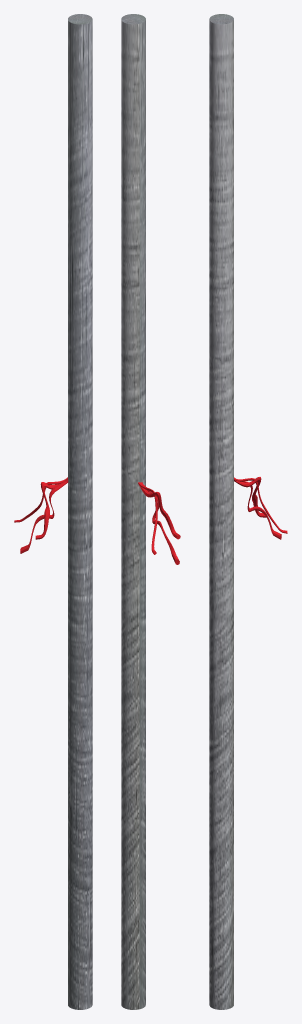
Rendered from poleWire.gltf.
The picture shows the model from 3 angles, left to right: view 1: azimuth 90°, elevation 25°; view 2: azimuth 210°, elevation 25°; view 3: azimuth 270°, elevation 25°; orthographic projection.
Parts seen in each view (by area): view 1: Cylinder, Cylinder.002, Cylinder.001; view 2: Cylinder, Cylinder.002, Cylinder.001, Cylinder.004; view 3: Cylinder, Cylinder.002, Cylinder.001, Cylinder.004.
Part boxes in pixels (<box>): Cylinder: <box>68,14,92,1009</box>; Cylinder.002: <box>35,478,68,539</box>; Cylinder.001: <box>20,481,68,553</box>; Cylinder: <box>121,14,145,1009</box>; Cylinder.002: <box>139,482,180,539</box>; Cylinder.001: <box>143,485,179,564</box>; Cylinder.004: <box>138,482,157,554</box>; Cylinder: <box>209,14,233,1009</box>; Cylinder.002: <box>234,477,266,517</box>; Cylinder.001: <box>242,481,281,539</box>; Cylinder.004: <box>234,478,287,533</box>.
Bounding box in the file's own units: 3.49 × 87.73 × 6.32.
2 materials, 1 textured.
